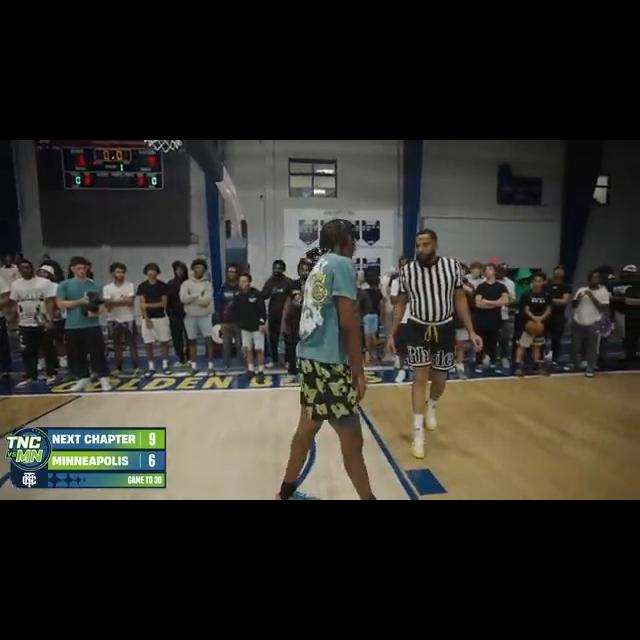hoop: (140, 140, 189, 153)
